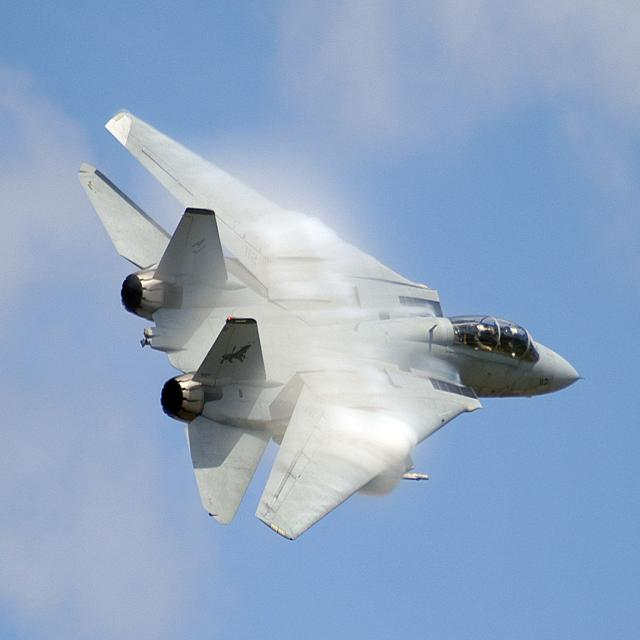MIL_Plane: (76, 109, 586, 541)
